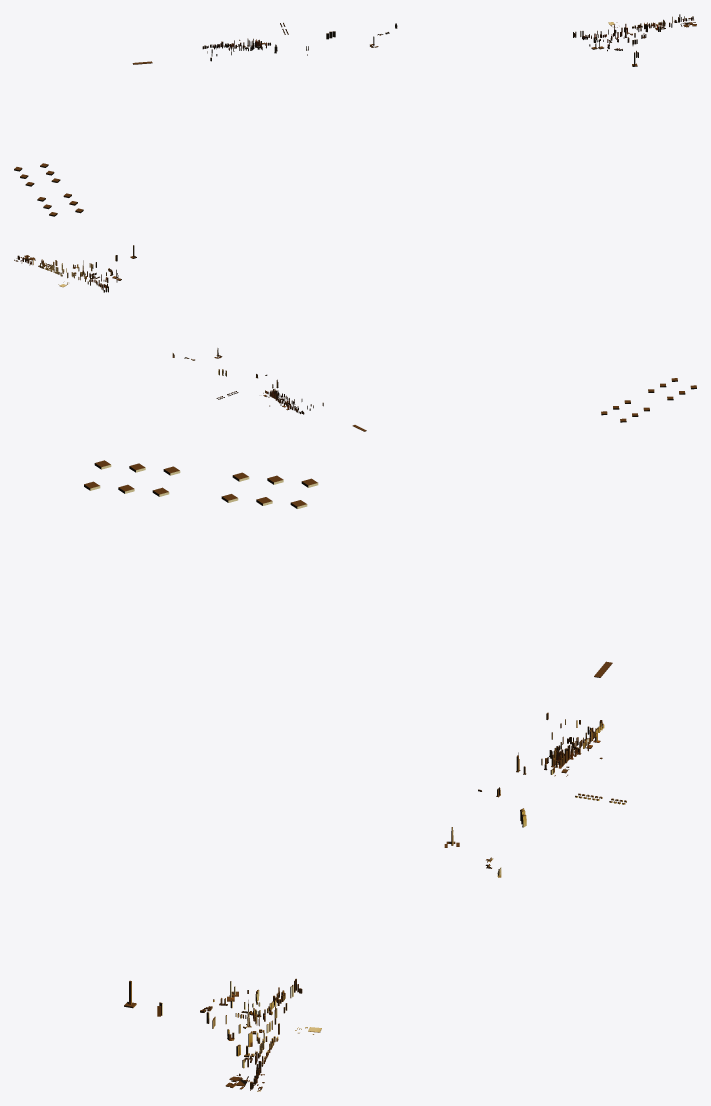
File: BG_CITY.fbx
The picture shows the model from 3 angles, top to bottom: view 1: azimuth 30°, elevation 25°; view 2: azimuth 150°, elevation 25°; view 3: azimuth 270°, elevation 25°; orthographic projection. The views are drawn at different scales.
Visible parts, largest first — view 1: BG_CITY; view 2: BG_CITY; view 3: BG_CITY.
Boxes of the visible parts, <box> form: BG_CITY: <box>14,14,696,216</box>; BG_CITY: <box>14,245,696,431</box>; BG_CITY: <box>84,460,626,1091</box>.
Size of the model in its own units: 37365 by 786 by 13641.
Materials: 1 (1 with a texture image).
